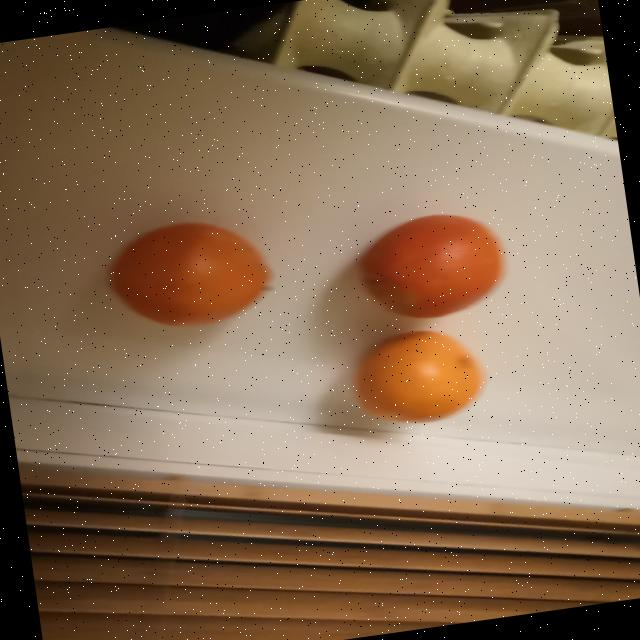orange: (110, 222, 270, 326), (360, 214, 503, 317), (354, 330, 483, 422)
